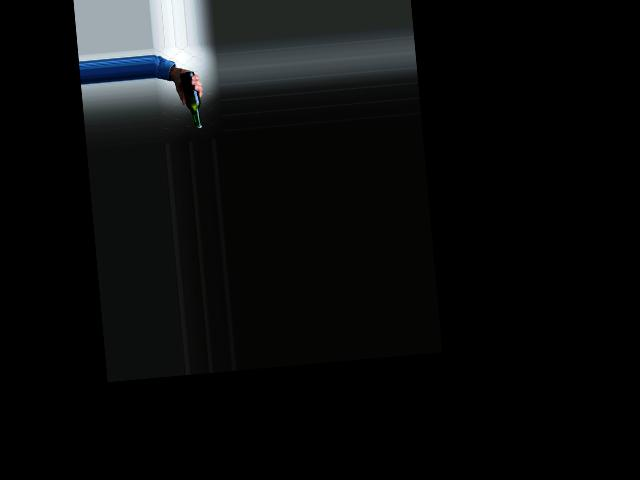beer: (179, 70, 202, 130)
